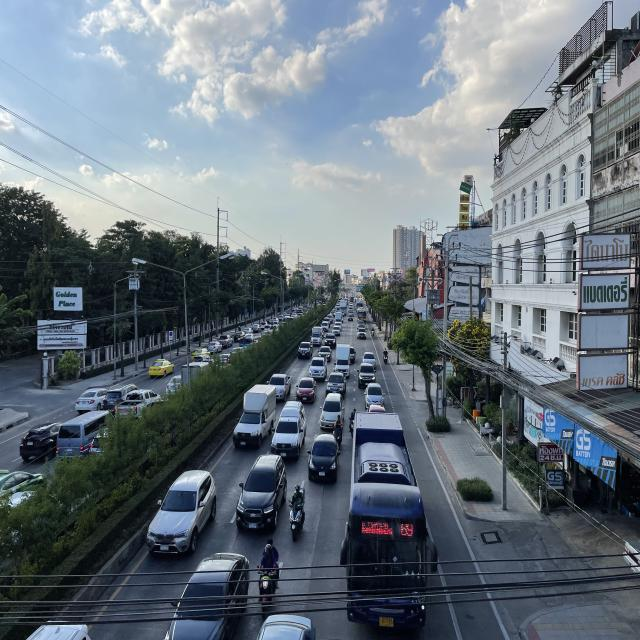bike: (256, 537, 280, 616), (288, 484, 307, 544), (333, 414, 343, 448), (349, 406, 356, 440), (383, 347, 389, 366)
bus: (343, 410, 432, 632), (357, 307, 366, 323)
car: (165, 553, 249, 640), (145, 468, 218, 556), (236, 452, 286, 532), (309, 433, 339, 486), (320, 394, 345, 431), (266, 372, 292, 402), (365, 381, 385, 409), (326, 372, 346, 399), (296, 376, 315, 402), (358, 363, 377, 388), (309, 356, 326, 380), (297, 341, 313, 359), (362, 351, 376, 368), (318, 345, 332, 361), (325, 332, 337, 348)
truck: (232, 382, 271, 448), (272, 400, 304, 460), (335, 343, 350, 377), (310, 326, 322, 346), (340, 300, 347, 316)
